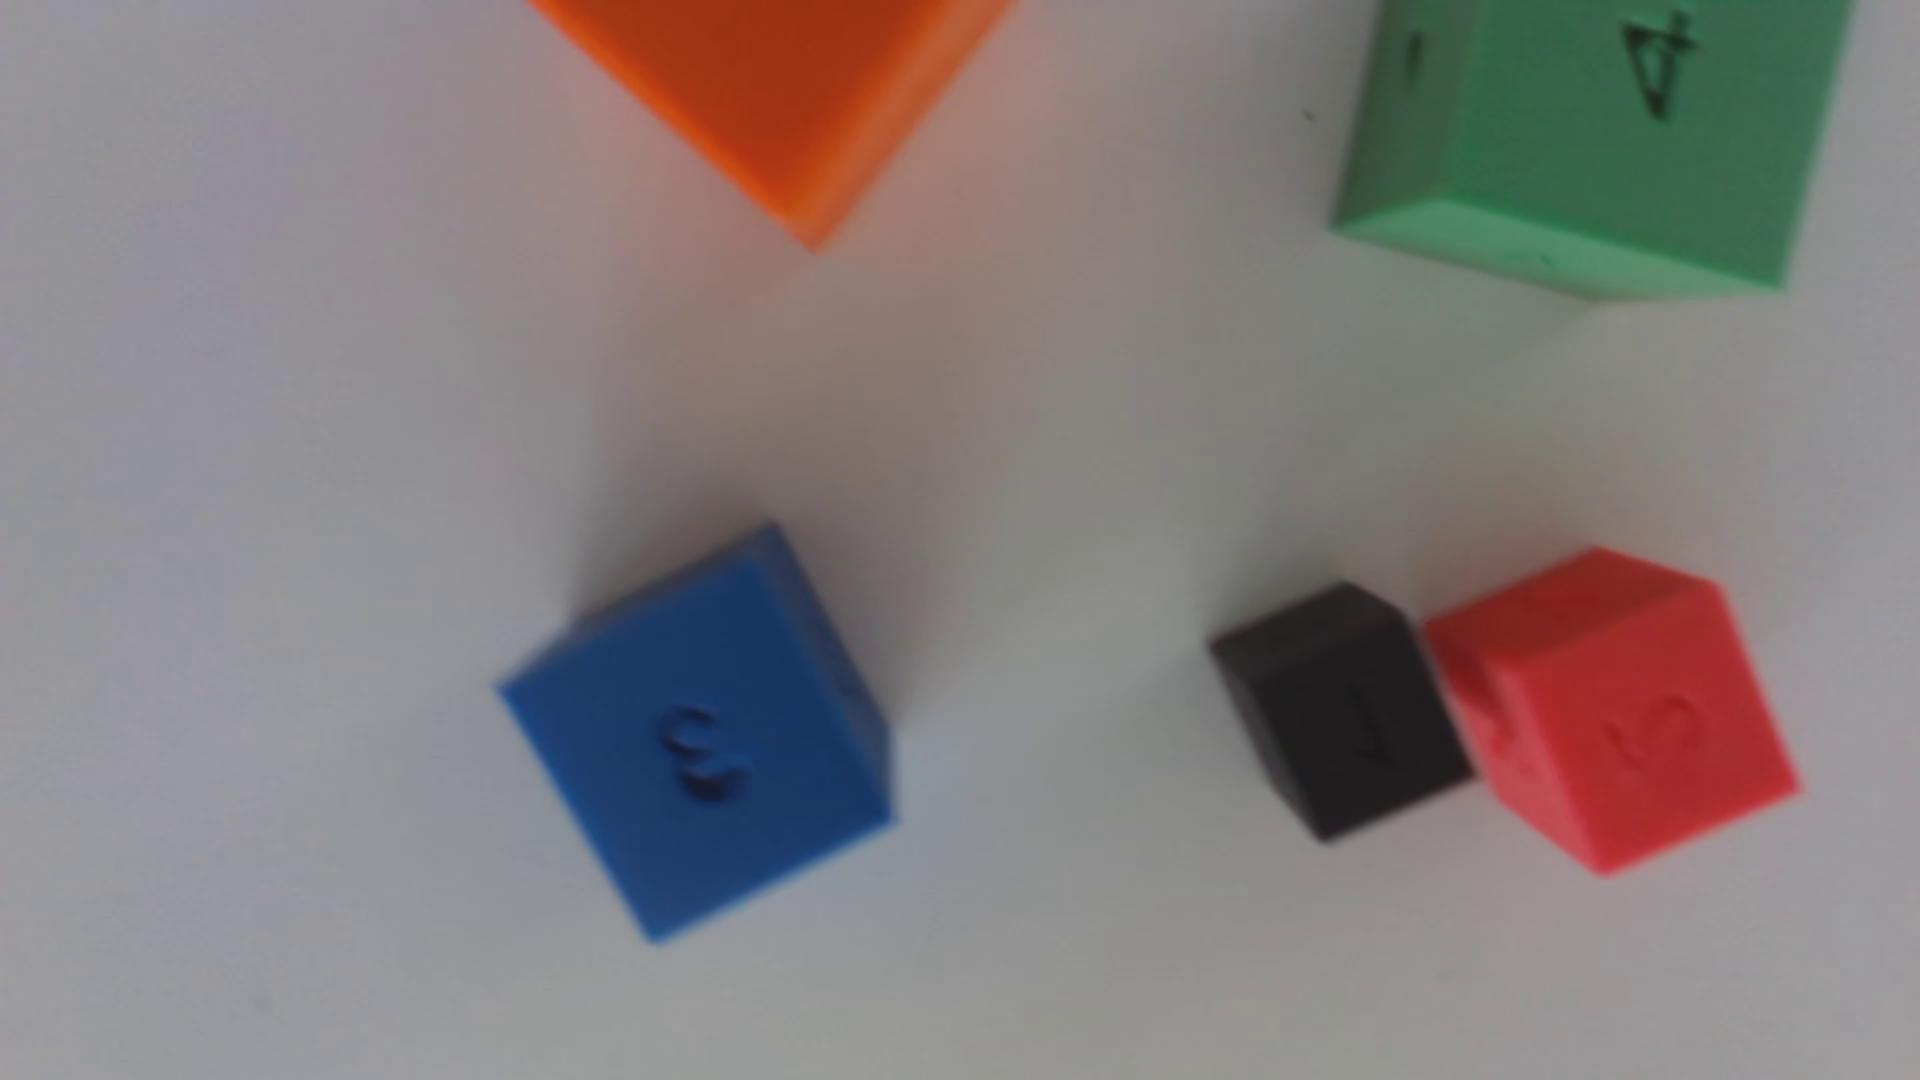black: (1208, 582, 1474, 841)
blue: (500, 527, 895, 940)
green: (1332, 0, 1854, 301)
orange: (531, 0, 1011, 247)
red: (1422, 547, 1797, 873)
